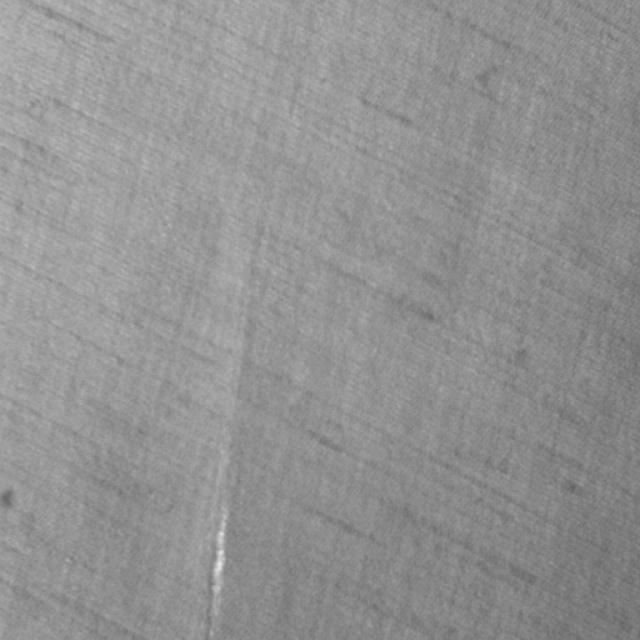thread error: (203, 215, 269, 639)
